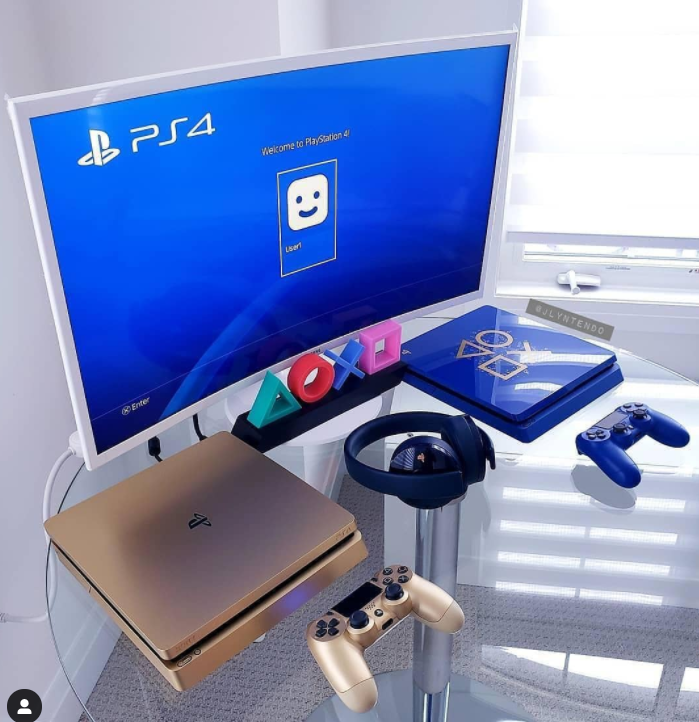gamingconsole: (302, 565, 469, 712), (578, 401, 691, 492)
